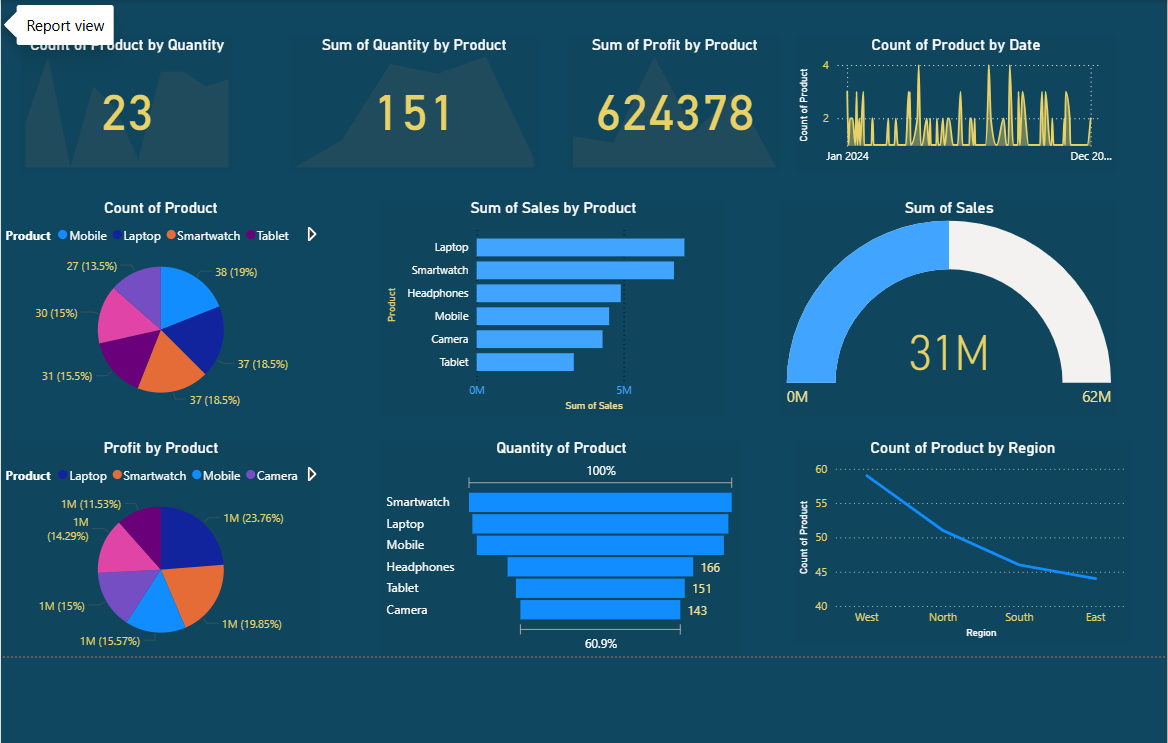

What the dashboard file says about the page in this screenshot:
{"tool":"powerbi","page":{"name":"Page 1","canvas":[1280,720],"ordinal":0},"visuals":[{"type":"pieChart","title":"Count of Product","fields":{"Category":["Sheet1.Product"],"Y":["CountNonNull(Sheet1.Product)"]},"box":[0,218.2,351.3,238.8],"z":0},{"type":"pieChart","title":"Profit by Product","fields":{"Y":["Sum(Sheet1.Profit)"],"Category":["Sheet1.Product"]},"box":[0,481.6,351.3,238.8],"z":1},{"type":"clusteredBarChart","fields":{"Category":["Sheet1.Product"],"Y":["Sum(Sheet1.Sales)"]},"box":[418.5,218.2,376,238.8],"z":2},{"type":"funnel","title":" Quantity of Product ","fields":{"Y":["Sum(Sheet1.Quantity)"],"Category":["Sheet1.Product"]},"box":[418.5,481.6,393.8,238.8],"z":3},{"type":"gauge","fields":{"Y":["Sum(Sheet1.Sales)"]},"box":[856.3,218.2,369.1,238.8],"z":4},{"type":"kpi","fields":{"TrendLine":["Sheet1.Quantity"],"Indicator":["CountNonNull(Sheet1.Product)"]},"box":[22,38.4,233.3,150.9],"z":5},{"type":"kpi","fields":{"Indicator":["Sum(Sheet1.Profit)"],"TrendLine":["Sheet1.Product"]},"box":[623,38.4,233.3,150.9],"z":6},{"type":"kpi","fields":{"Indicator":["Sum(Sheet1.Quantity)"],"TrendLine":["Sheet1.Product"]},"box":[317,38.4,273.1,150.9],"z":7},{"type":"lineChart","fields":{"Category":["Sheet1.Region"],"Y":["CountNonNull(Sheet1.Product)"]},"box":[871.4,481.6,369.1,223.7],"z":8},{"type":"stackedAreaChart","fields":{"Y":["CountNonNull(Sheet1.Product)"],"Category":["Sheet1.Date"]},"box":[871.4,38.4,354,150.9],"z":9}]}

Visuals, with their boxes on the page's 1280x720 design canvas (x1, y1, x2, y2). These are canvas units, not pixel positions in the 1168x743 screenshot, which may show the page scaled, cropped or inside an application window:
"Count of Product" pieChart: <bbox>0, 218, 351, 457</bbox>
"Profit by Product" pieChart: <bbox>0, 482, 351, 720</bbox>
clusteredBarChart - Sheet1.Product x Sum(Sheet1.Sales): <bbox>418, 218, 794, 457</bbox>
" Quantity of Product " funnel: <bbox>418, 482, 812, 720</bbox>
gauge - Sum(Sheet1.Sales): <bbox>856, 218, 1225, 457</bbox>
kpi - Sheet1.Quantity x CountNonNull(Sheet1.Product): <bbox>22, 38, 255, 189</bbox>
kpi - Sum(Sheet1.Profit) x Sheet1.Product: <bbox>623, 38, 856, 189</bbox>
kpi - Sum(Sheet1.Quantity) x Sheet1.Product: <bbox>317, 38, 590, 189</bbox>
lineChart - Sheet1.Region x CountNonNull(Sheet1.Product): <bbox>871, 482, 1240, 705</bbox>
stackedAreaChart - CountNonNull(Sheet1.Product) x Sheet1.Date: <bbox>871, 38, 1225, 189</bbox>
